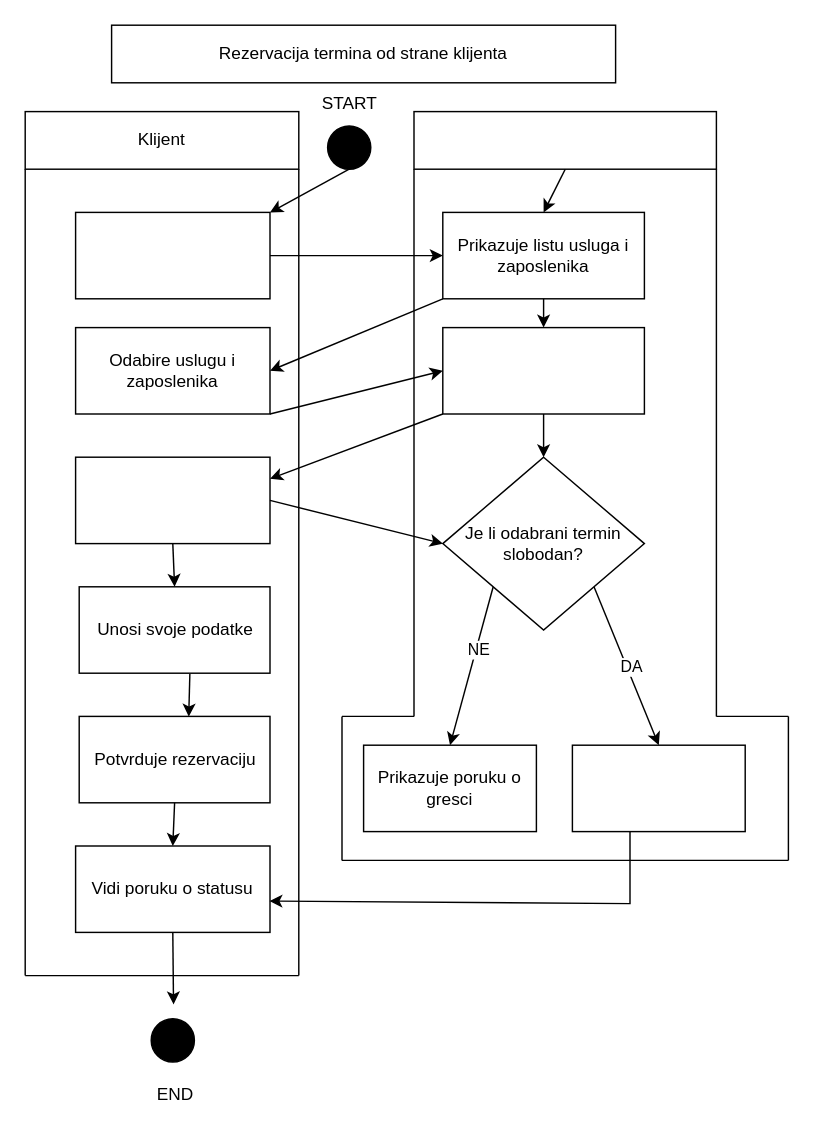
Image size: 815x1142. Some labels were removed from this diagram. Here are the shapes that lost their labels. From the top down, the centre of each, then its label:
point (564, 139): Salon ljepote
point (172, 255): Posjecuje stranicu za rezervacije
point (542, 370): Prikazuje termine
point (172, 500): Pregledava i odabire zeljeni termin
point (658, 788): Prikazuje poruku o uspjehu
